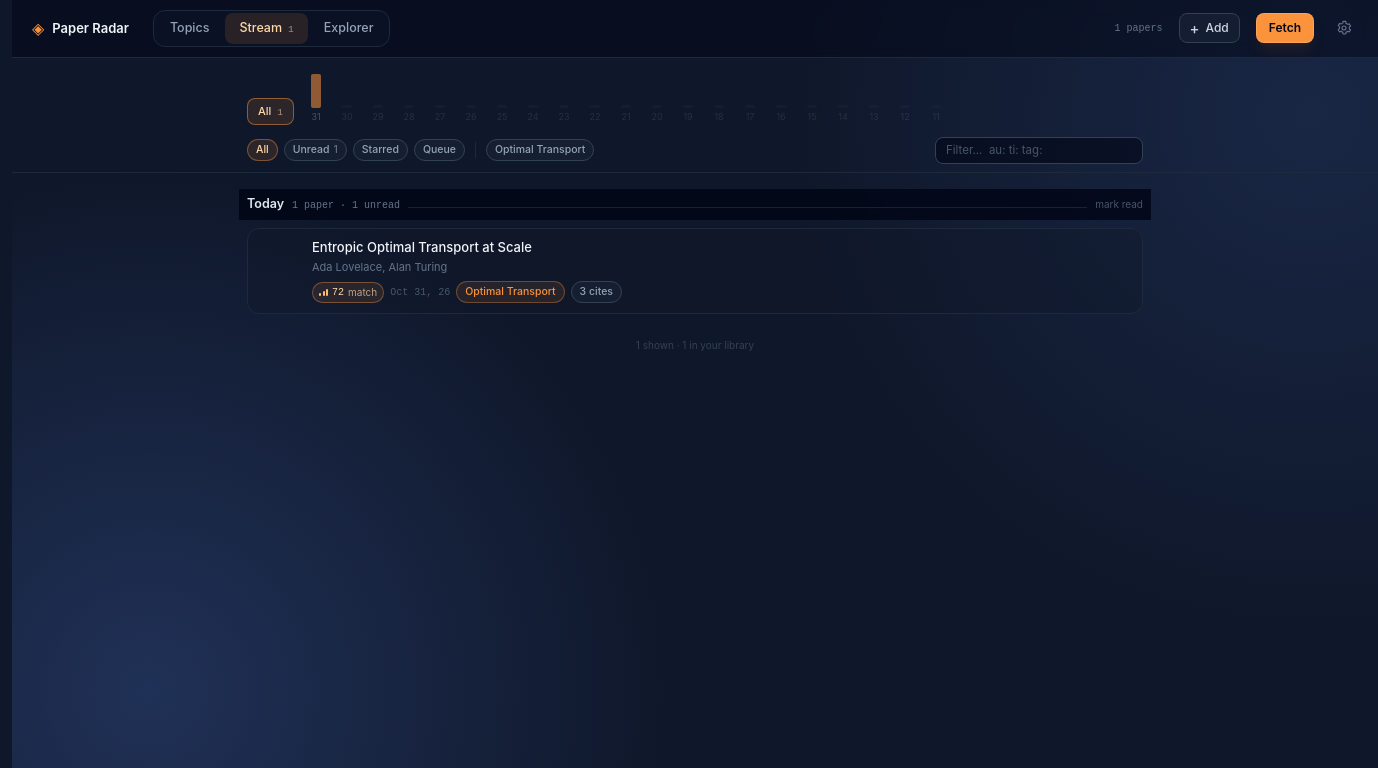
a subfolder can be created from the folder context menu
Click the tab with test id "tab-explorer".
click(349, 28)  # box x1=310 y1=13 x2=388 y2=44
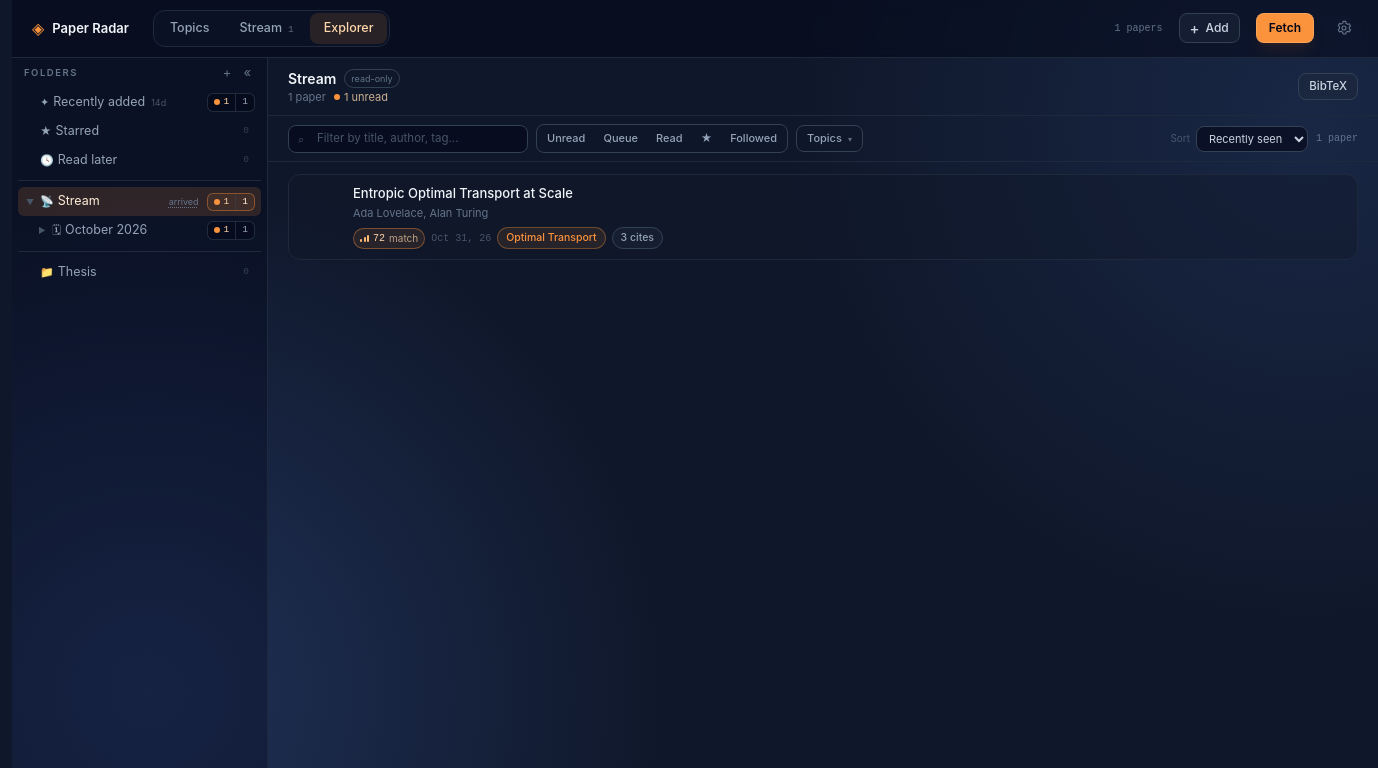
Right-click the element with test id "folder-node-f_root".
right_click(77, 271)  # box x1=40 y1=264 x2=249 y2=279
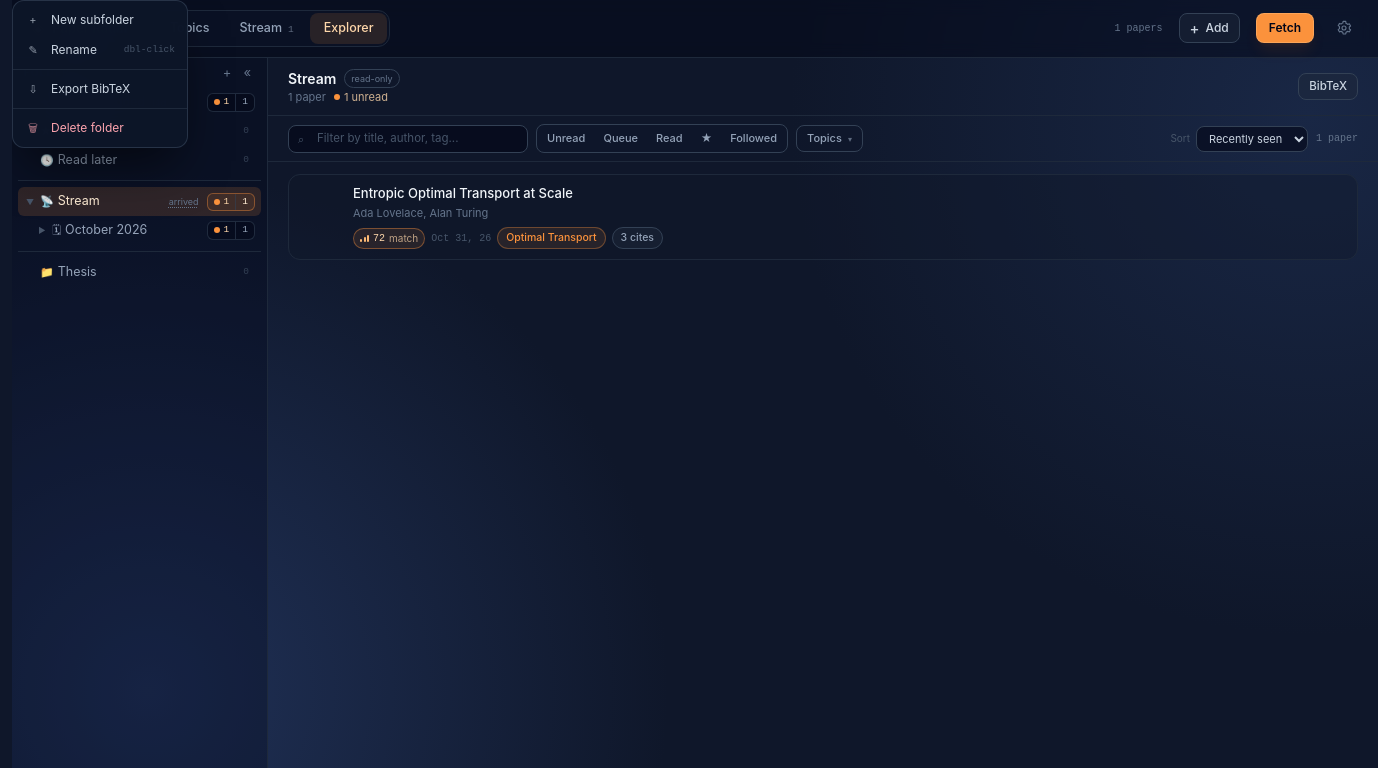
Click the text "New subfolder".
click(92, 20)  # box x1=51 y1=12 x2=134 y2=27
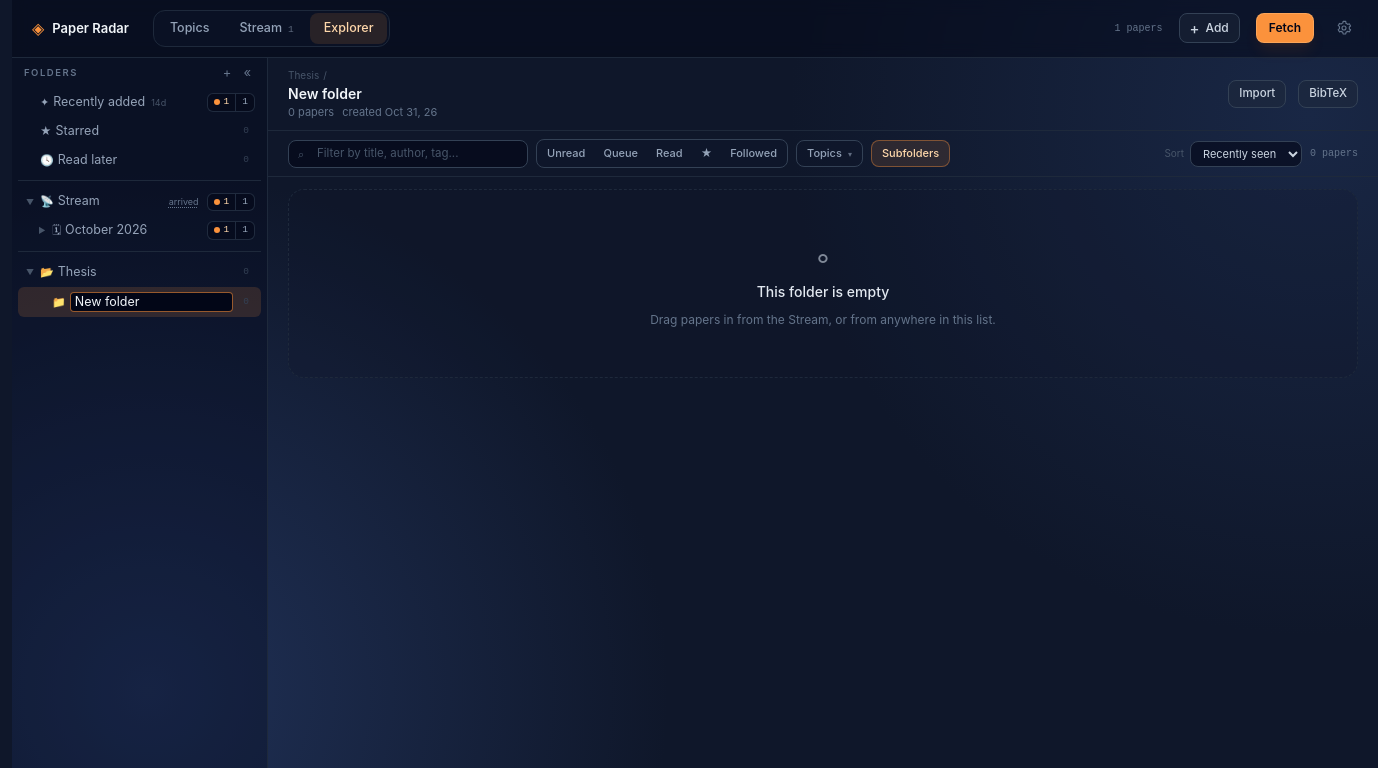
Expected: the field showing "New folder" is shown, x1=70 y1=292 x2=233 y2=312
